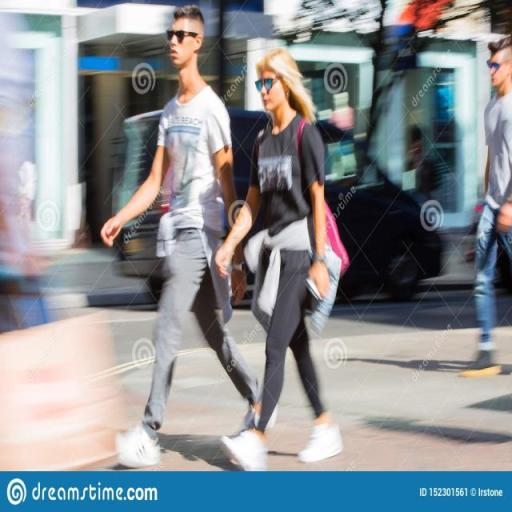person: (96, 6, 264, 466), (215, 52, 345, 472), (462, 30, 512, 381)
